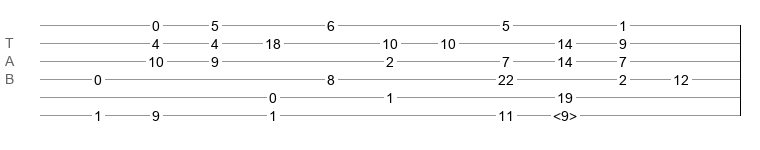0: (94, 72, 102, 82), (152, 18, 160, 28), (269, 90, 277, 100)
1: (94, 108, 102, 118), (269, 108, 277, 118), (386, 90, 394, 100), (619, 18, 627, 28)
10: (148, 54, 164, 64), (382, 36, 398, 46), (440, 36, 456, 46)
11: (498, 108, 514, 118)
12: (673, 72, 689, 82)
14: (557, 36, 573, 46), (557, 54, 573, 64)
18: (265, 36, 281, 46)
19: (557, 90, 573, 100)
2: (386, 54, 394, 64), (619, 72, 627, 82)
22: (498, 72, 514, 82)
4: (152, 36, 160, 46), (211, 36, 219, 46)
5: (211, 18, 219, 28), (502, 18, 510, 28)
6: (327, 18, 335, 28)
7: (502, 54, 510, 64), (619, 54, 627, 64)
8: (327, 72, 335, 82)
9: (152, 108, 160, 118), (211, 54, 219, 64), (619, 36, 627, 46)
harmonic: (553, 108, 577, 118)
